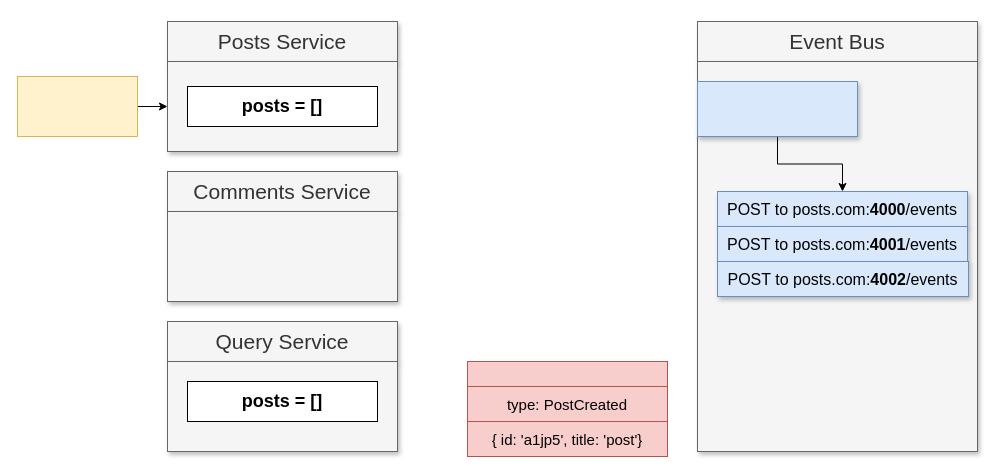
Some shapes in this 1001 by 476 pixel diagram are drawn without their labels. The shapes that lost their labels are listed below. From the top down, each one's centre as x and y in pixels, then its label:
At point (77, 106): "User tries to create a post".
At point (778, 110): "POST /events".
At point (567, 373): "Event".
